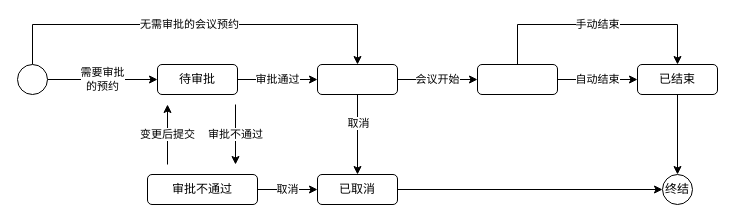
This 735x222 diagram has some shape labels left out. Each missing label, with the centre of its shape:
"已预约" belongs at pixel 357 79.
"开始" belongs at pixel 32 79.
"进行中" belongs at pixel 517 79.
